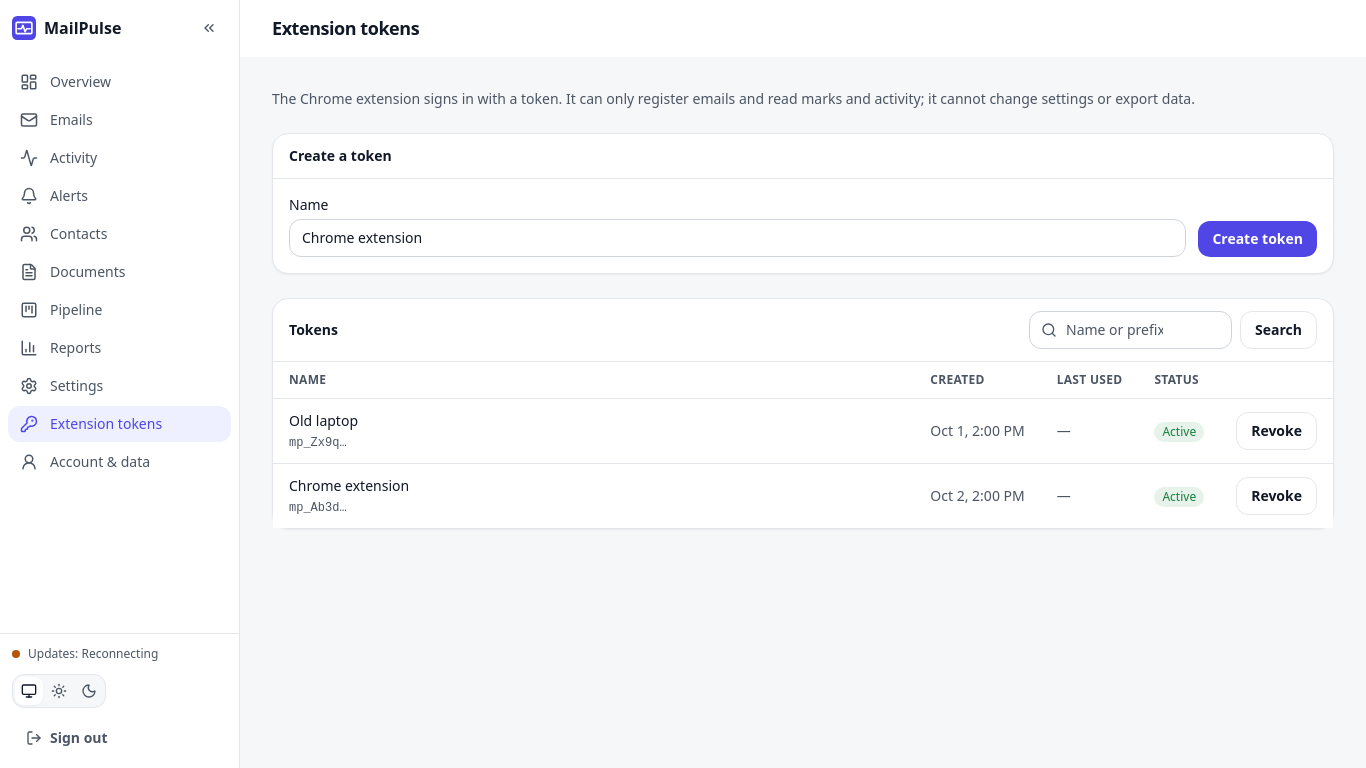
Test: Extension tokens › filters the tokens in the browser as you type, without a request
Expected: the text "Old laptop" is shown, [289,411,358,430]
Type "chrome" into the search field named "Search tokens" at (1131, 330), box [1029,311,1232,349]
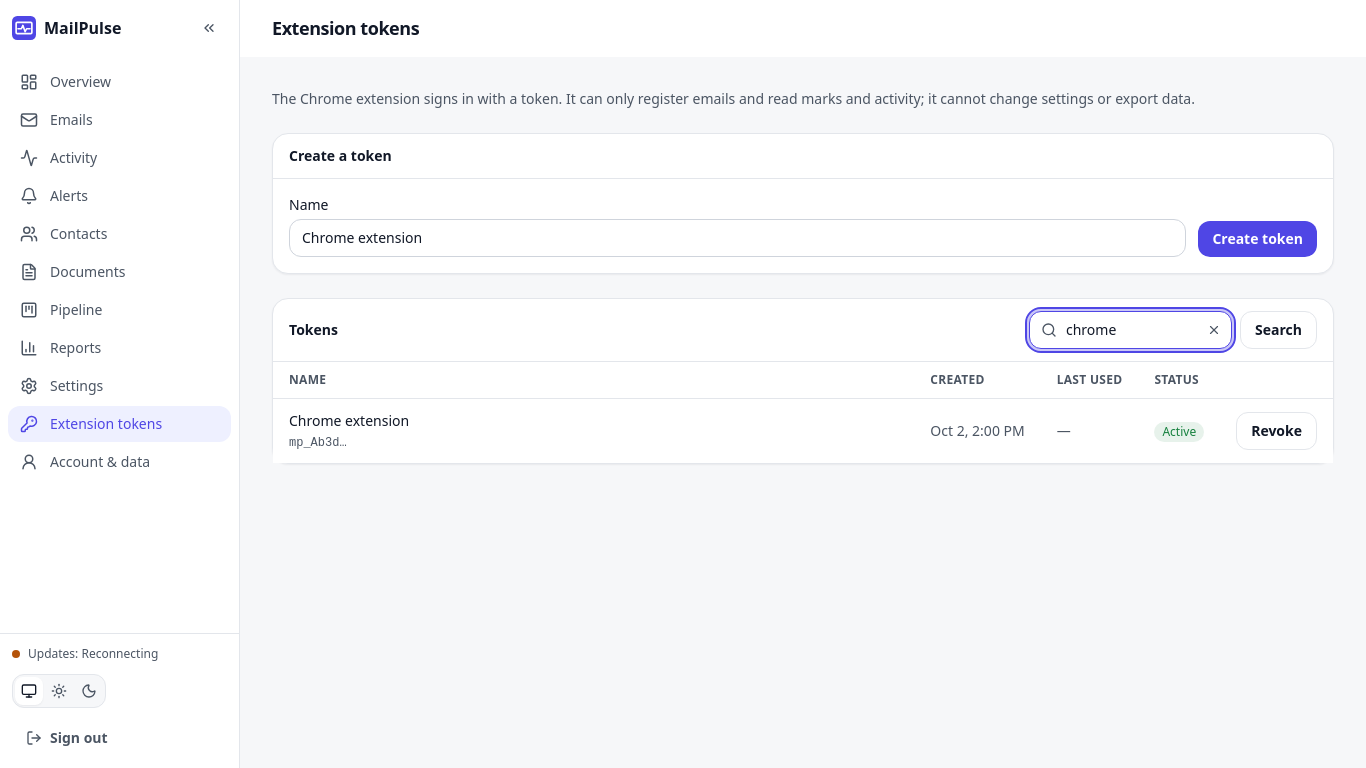
Expected: the text "Chrome extension" is shown, [289,411,409,430]
Now the text "Old laptop" is gone
